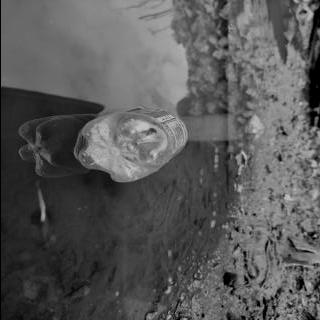bottle: (70, 104, 192, 184)
